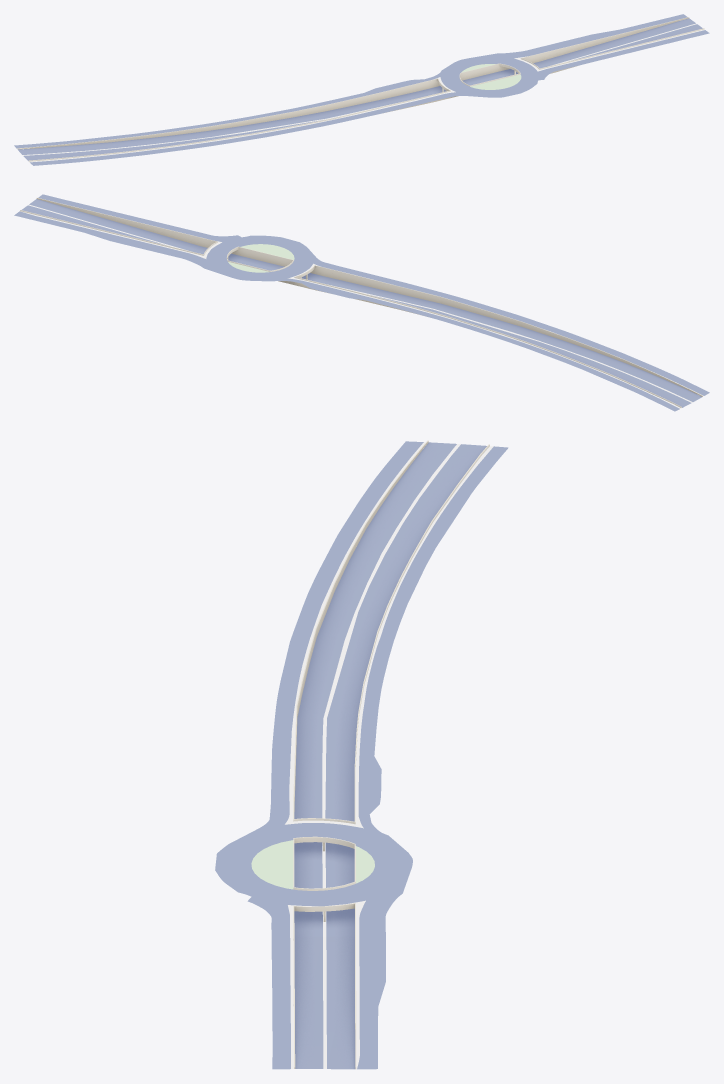
File: Al-Mustafina-tinted.glb
3 renders of one model, top to bottom at view 1: azimuth 30°, elevation 25°; view 2: azimuth 150°, elevation 25°; view 3: azimuth 270°, elevation 25°, orthographic. The views are drawn at different scales.
Visible parts, largest first — view 1: group_3, group_15, group_6.001, group_4.001; view 2: group_3, group_15, group_6.001, group_4.001; view 3: group_3, group_6.001, group_15, group_4.001.
Boxes of the visible parts, x1,y1,x2,y2 form: group_3: (14,14,709,165); group_15: (17,17,704,161); group_6.001: (22,23,704,162); group_4.001: (461,64,521,89); group_3: (14,194,709,411); group_15: (20,197,702,407); group_6.001: (20,204,703,408); group_4.001: (228,244,294,272); group_3: (215,441,508,1069); group_6.001: (285,442,493,1069); group_15: (293,440,489,1069); group_4.001: (251,840,374,889).
Bounding box in the file's own units: 688 × 8 × 136.
Materials: 4 (2 with a texture image).
